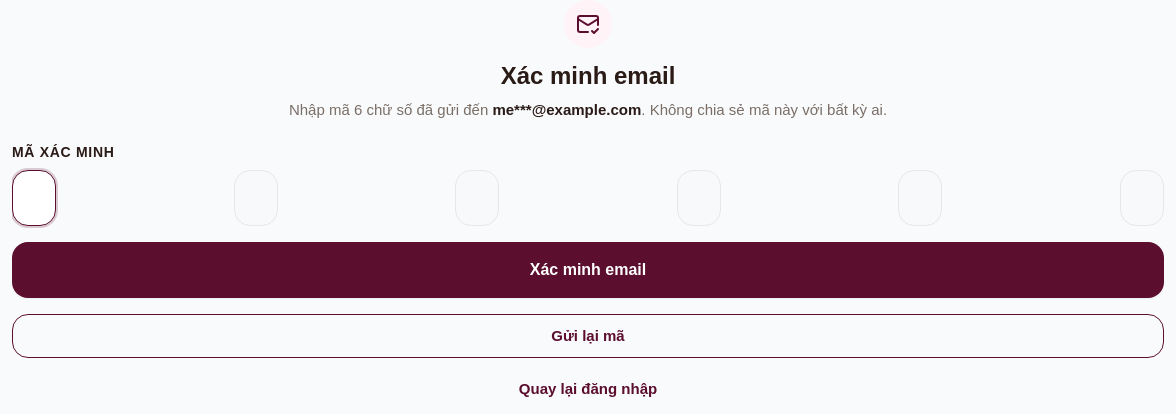
Scenario: Web email verification › replaces the OTP form with success feedback before returning to login
Expected: the text "me***@example.com" is shown, 492,101 -> 641,118
In the field labelled "Mã xác minh": (34, 198) 12,170 -> 56,226, type "123456"
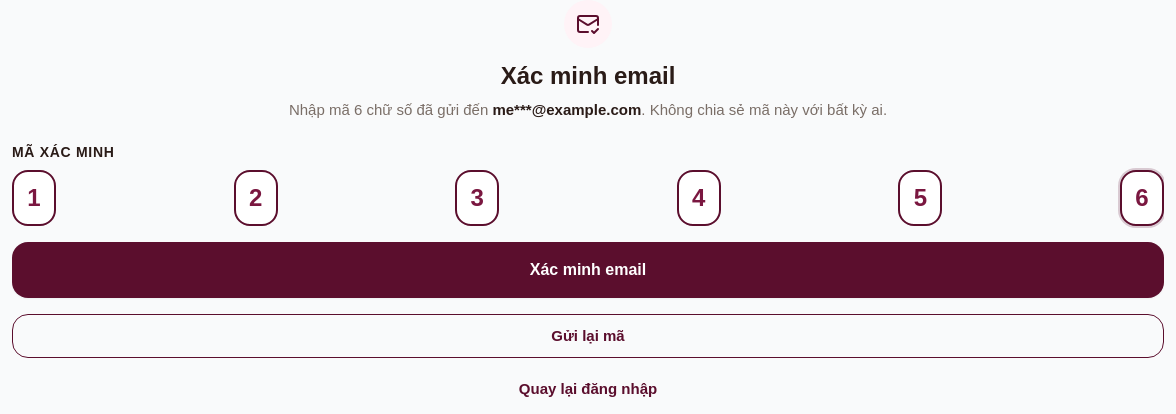
Click the button "Xác minh email": (588, 270) 12,242 -> 1164,298
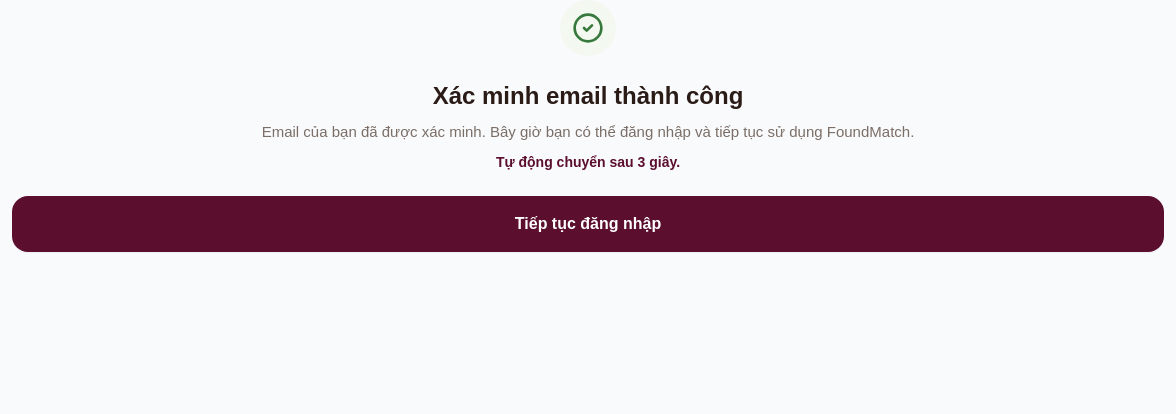
Now the heading "Xác minh email thành công" is shown, box 433,82 -> 743,109
Now the label "Mã xác minh" is gone
Now the text "Tự động chuyển sau 3 giây." is shown, box 496,154 -> 680,170
